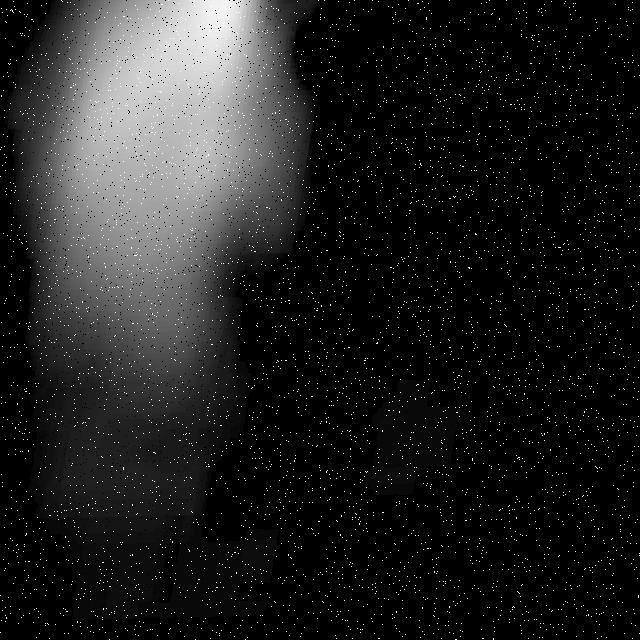person: (19, 1, 297, 364)
